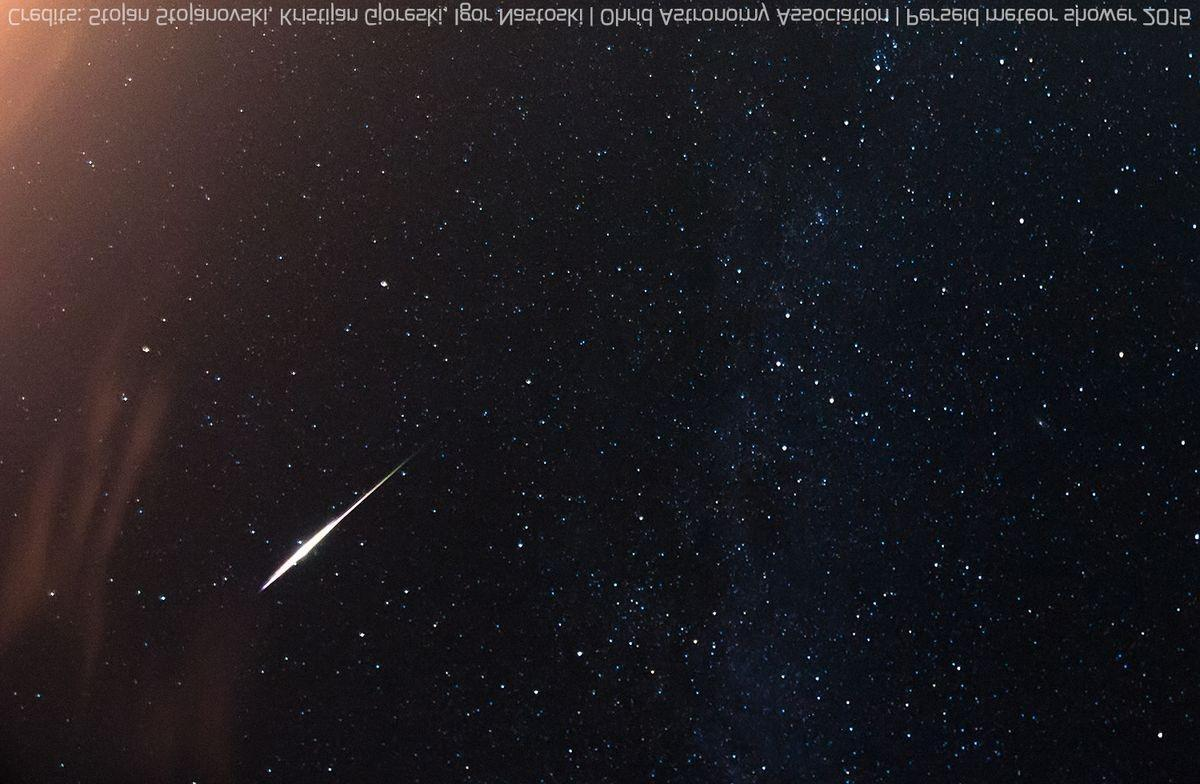meteorite: (230, 442, 439, 604)
